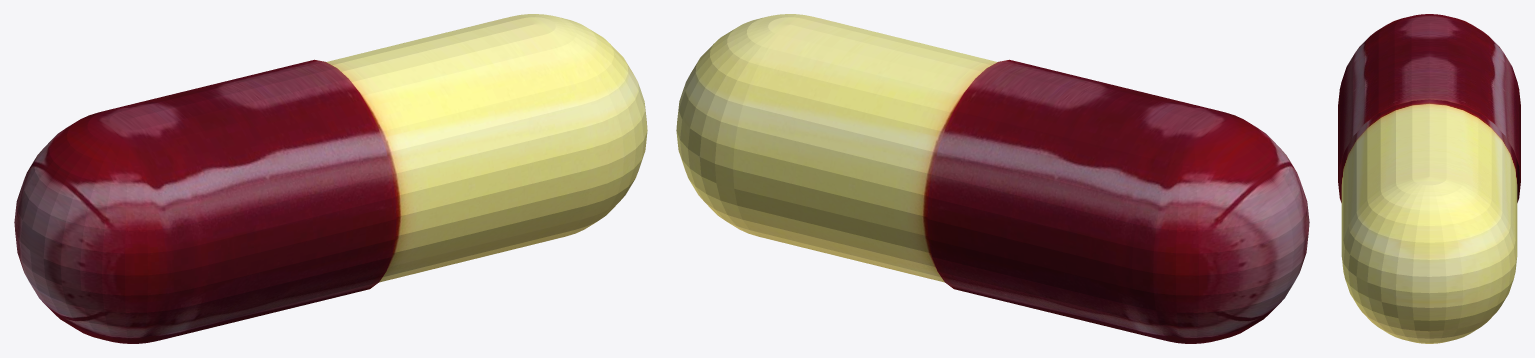
3 renders of one model, left to right at view 1: azimuth 30°, elevation 25°; view 2: azimuth 150°, elevation 25°; view 3: azimuth 270°, elevation 25°, orthographic. The views are drawn at different scales.
Parts seen in each view (by area): view 1: 球體; view 2: 球體; view 3: 球體.
Boxes of the visible parts, x1,y1,x2,y2 form: 球體: (14,14,647,343); 球體: (676,14,1309,343); 球體: (1338,14,1520,343).
Bounding box in the file's own units: 2.93 × 1 × 1.
